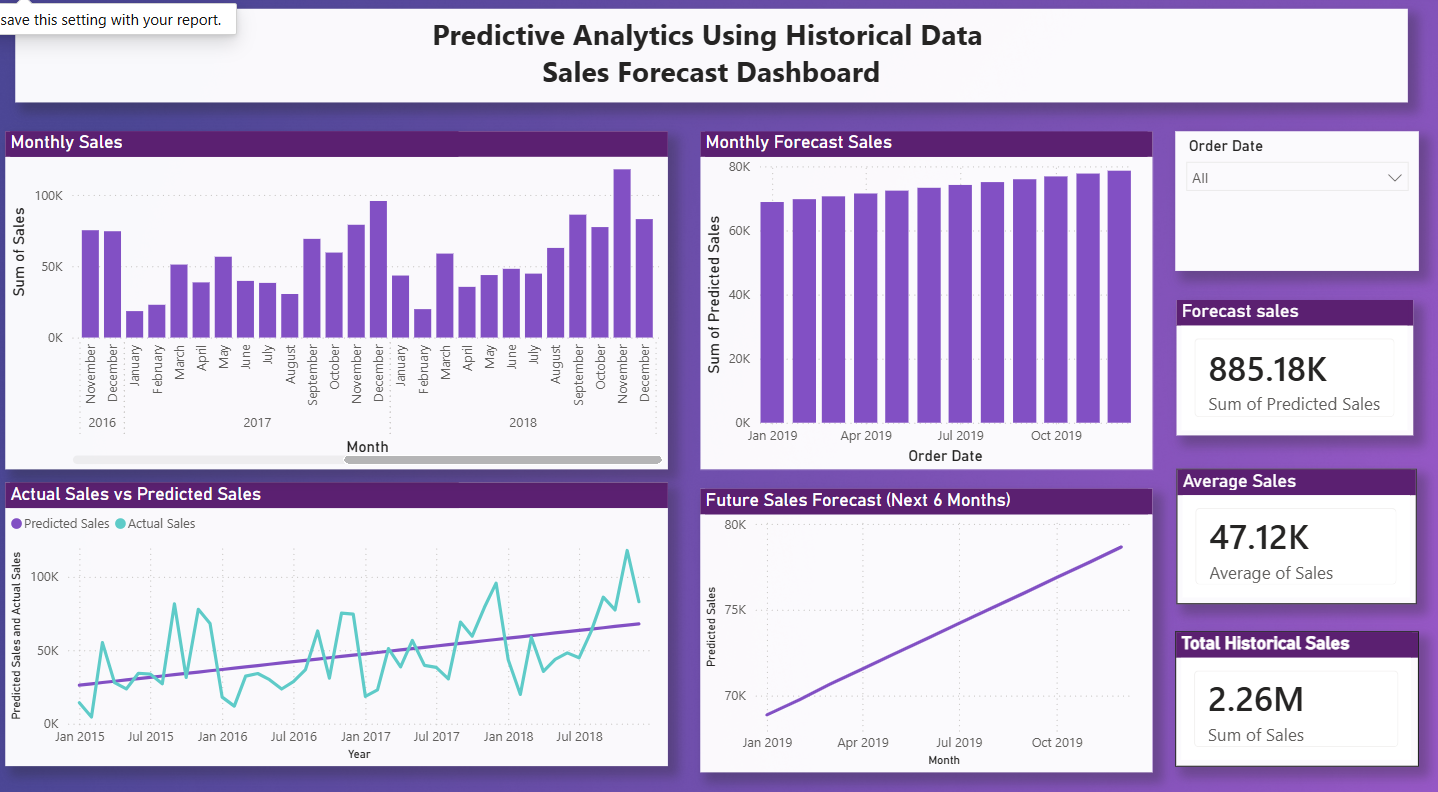

Layout of this report page (visuals, bound fields, positions):
{"tool":"powerbi","page":{"name":"Page 1","canvas":[1366,750],"ordinal":0},"visuals":[{"type":"cardVisual","title":"Total Historical Sales","fields":{"Data":["Sum(Historical Sales.Sales)"]},"box":[1118.8,597.5,228.4,127.4],"z":0},{"type":"cardVisual","title":"Average Sales","fields":{"Data":["Avg(Historical Sales.Sales)"]},"box":[1120.3,445.2,225.5,127.4],"z":1000},{"type":"cardVisual","title":"Forecast sales","fields":{"Data":["Sum(Forecast Sales.Predicted Sales)"]},"box":[1120.3,287,222.6,127.4],"z":2000},{"type":"lineChart","title":"Actual Sales vs Predicted Sales","fields":{"Category":["Historical Sales.Order Date.Variation.Date Hierarchy.Year","Historical Sales.Order Date.Variation.Date Hierarchy.Quarter","Historical Sales.Order Date.Variation.Date Hierarchy.Month","Historical Sales.Order Date.Variation.Date Hierarchy.Day"],"Y":["Sum(Historical Sales.Predicted Sales)","Sum(Historical Sales.Sales)"]},"box":[21,464,622,267],"z":4000},{"type":"lineChart","title":"Future Sales Forecast (Next 6 Months)","fields":{"Y":["Sum(Forecast Sales.Predicted Sales)"],"Category":["Forecast Sales.Order Date"]},"box":[672.2,464.2,424.7,266.5],"z":5000},{"type":"clusteredColumnChart","title":"Monthly Sales","fields":{"Y":["Sum(Historical Sales.Sales)"],"Category":["Historical Sales.Order Date.Variation.Date Hierarchy.Year","Historical Sales.Order Date.Variation.Date Hierarchy.Month"]},"box":[20.5,127.4,622.4,317.8],"z":6000},{"type":"textbox","box":[29.3,13.2,1307.7,87.9],"z":7000},{"type":"slicer","fields":{"Values":["Historical Sales.Order Date"]},"box":[1118.9,128,228.9,131.5],"z":8000},{"type":"clusteredColumnChart","title":"Monthly Forecast Sales","fields":{"Category":["Forecast Sales.Order Date"],"Y":["Sum(Forecast Sales.Predicted Sales)"]},"box":[672.2,127.4,424.7,317.8],"z":9000}]}

Visuals, with their boxes in screenshot pixels (x1, y1, x2, y2):
"Total Historical Sales" cardVisual: crop(1174, 632, 1420, 769)
"Average Sales" cardVisual: crop(1176, 468, 1419, 605)
"Forecast sales" cardVisual: crop(1176, 298, 1415, 435)
"Actual Sales vs Predicted Sales" lineChart: crop(0, 488, 662, 776)
"Future Sales Forecast (Next 6 Months)" lineChart: crop(694, 488, 1151, 775)
"Monthly Sales" clusteredColumnChart: crop(0, 126, 662, 468)
textbox: crop(2, 3, 1409, 98)
slicer - Historical Sales.Order Date: crop(1174, 127, 1421, 268)
"Monthly Forecast Sales" clusteredColumnChart: crop(694, 126, 1151, 468)
